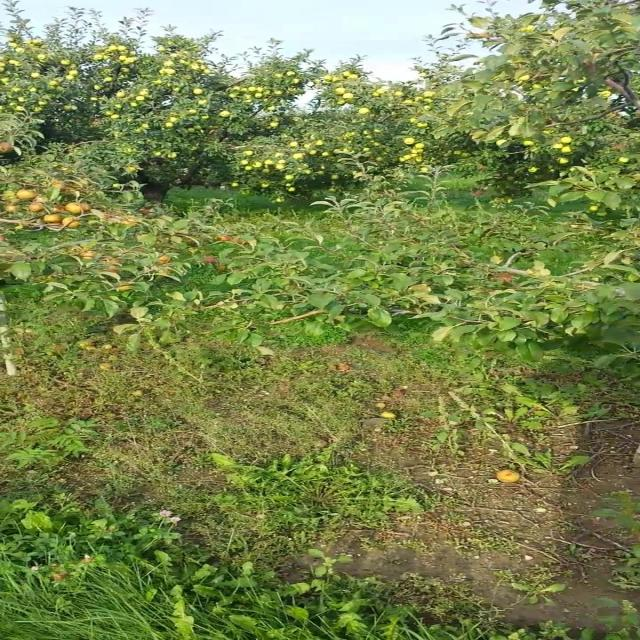apple: (492, 272, 513, 284), (64, 202, 83, 214), (16, 189, 36, 199), (62, 216, 78, 228), (42, 213, 60, 223), (76, 202, 90, 213), (28, 202, 42, 212), (115, 283, 132, 291), (53, 203, 66, 213), (104, 256, 120, 264), (78, 250, 94, 258), (51, 572, 65, 580), (106, 265, 119, 273), (51, 180, 64, 188), (1, 142, 11, 152), (4, 204, 16, 212), (203, 255, 216, 262), (216, 235, 231, 241)
